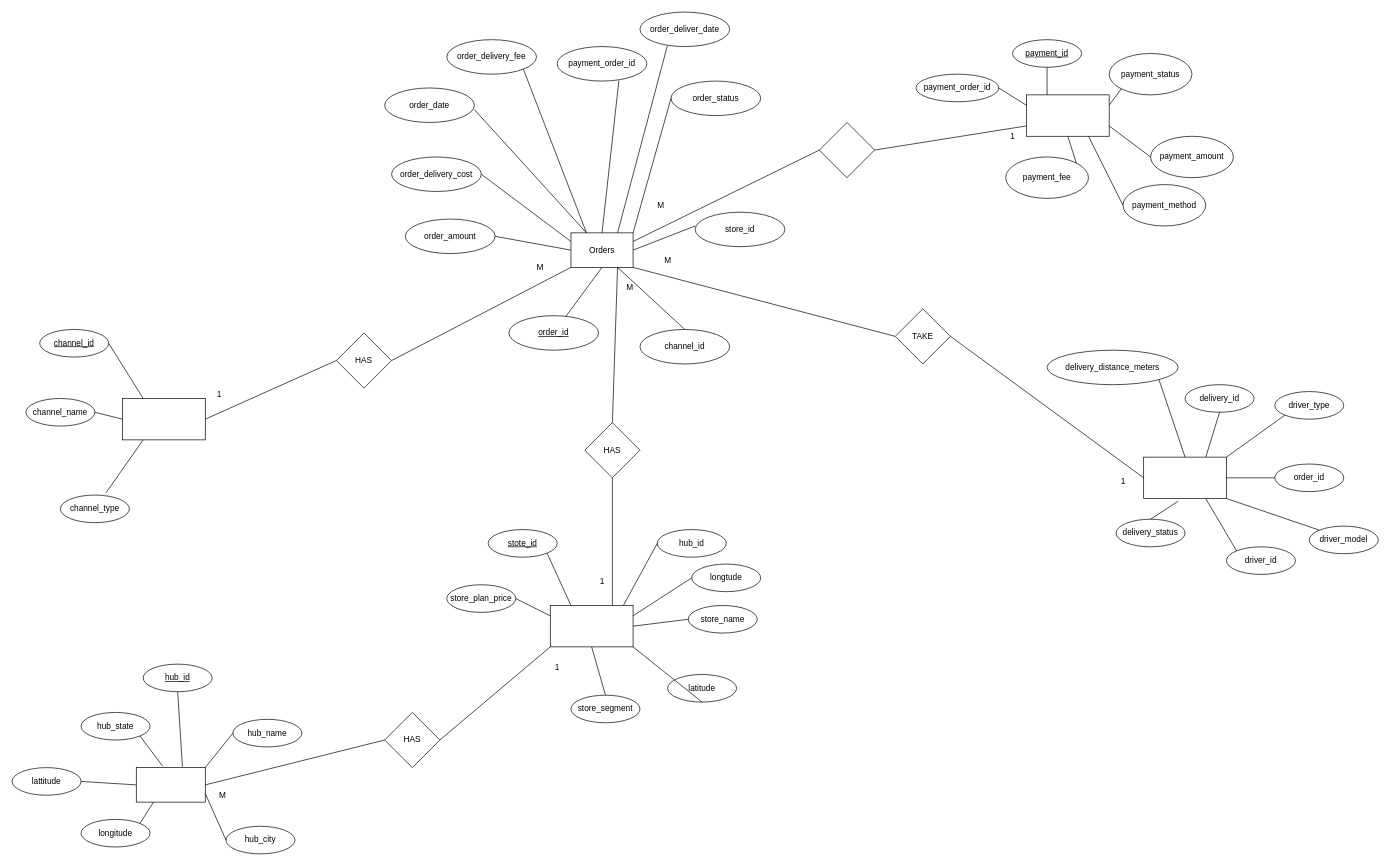
Image size: 1390x866. Some labels were removed from this diagram. Each missing label, with the centre of its shape:
"Channel" goes at point 163,419.
"Delivery Driver" goes at point 1184,477.
"Hubs" goes at point 170,784.
"MAKE" goes at point 847,150.
"Payments" goes at point 1067,115.
"Stores" goes at point 591,626.
